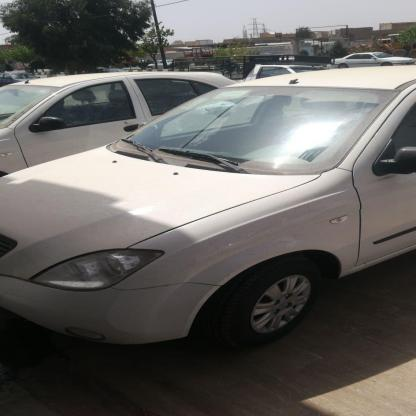Car: (0, 63, 416, 359), (0, 74, 234, 199)
